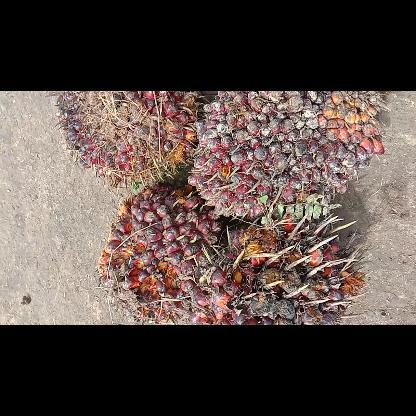Kurang masak: (185, 92, 387, 222), (50, 92, 206, 192)
TBS masak: (95, 180, 243, 324), (191, 214, 367, 324)
